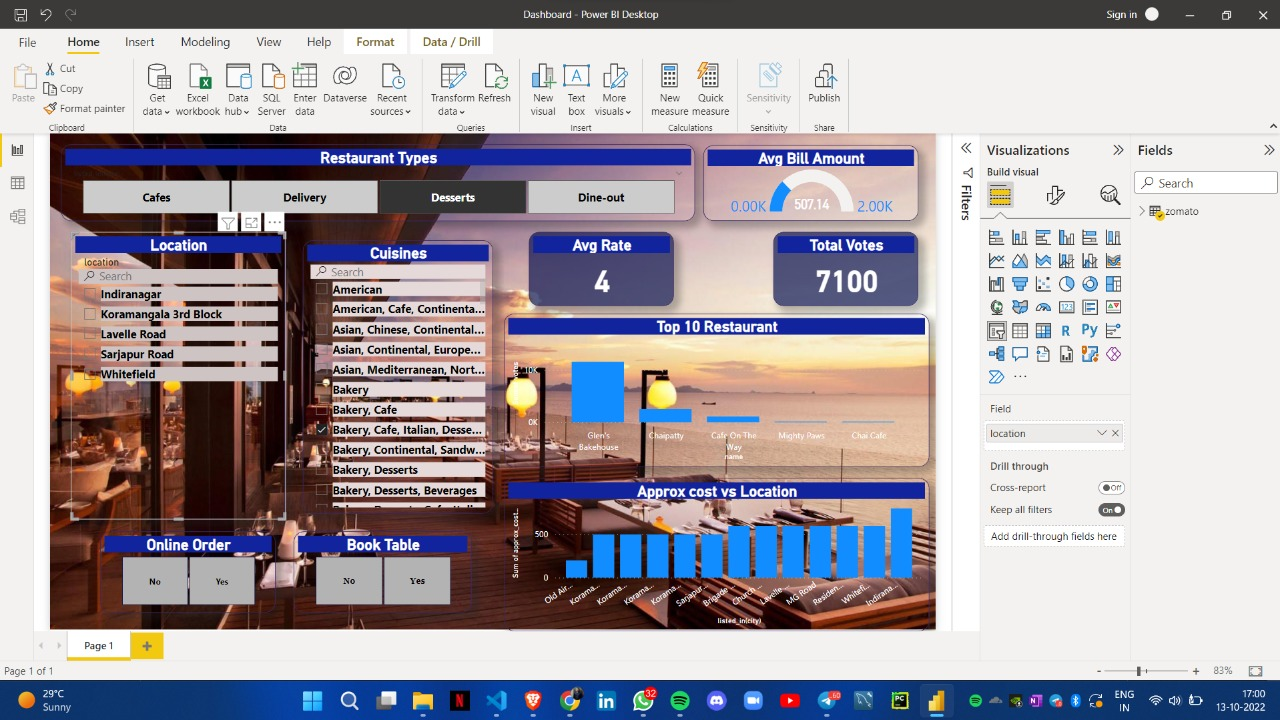

The page's visual inventory and layout, read from the dashboard file:
{"tool":"powerbi","page":{"name":"Page 1","canvas":[1280,720],"ordinal":0},"visuals":[{"type":"gauge","title":"Avg Bill Amount","fields":{"Y":["Avg(zomato.approx_cost(for two people))"]},"box":[944.3,16.9,311.2,109.7],"z":0},{"type":"slicer","title":"Restaurant Types","fields":{"Values":["zomato.listed_in(type)"]},"box":[15.9,15.9,917.1,111.3],"z":1000},{"type":"card","title":"Total Votes","fields":{"Values":["Sum(zomato.approx_cost(for two people))"]},"box":[1045.6,142.3,209.8,107.3],"z":2000},{"type":"card","title":"Avg Rate","fields":{"Values":["Avg(zomato.rate)"]},"box":[692.3,142.3,209.8,107.3],"z":3000},{"type":"columnChart","title":"Top 10 Restaurant","fields":{"Category":["zomato.name"],"Y":["Sum(zomato.votes)"]},"box":[656.1,260.5,615.1,221.9],"z":4000},{"type":"slicer","title":"Online Order","fields":{"Values":["zomato.online_order"]},"box":[72,575.6,253.7,117.4],"z":5000},{"type":"slicer","title":"Book Table","fields":{"Values":["zomato.book_table"]},"box":[352.2,575.6,257.5,117.4],"z":6000},{"type":"slicer","title":"Location","fields":{"Values":["zomato.location"]},"box":[30.2,142.3,309.9,416.1],"z":7000},{"type":"slicer","title":"Cuisines","fields":{"Values":["zomato.cuisines"]},"box":[365.4,154.4,275,395.6],"z":8000},{"type":"columnChart","title":"Approx cost vs Location","fields":{"Category":["zomato.listed_in(city)"],"Y":["Sum(zomato.approx_cost(for two people))"]},"box":[656.1,498.1,615.1,221.9],"z":8001}]}

Visuals, with their boxes on the page's 1280x720 design canvas (x1, y1, x2, y2). These are canvas units, not pixel positions in the 1280x720 screenshot, which may show the page scaled, cropped or inside an application window:
"Avg Bill Amount" gauge: {"x1": 944, "y1": 17, "x2": 1256, "y2": 127}
"Restaurant Types" slicer: {"x1": 16, "y1": 16, "x2": 933, "y2": 127}
"Total Votes" card: {"x1": 1046, "y1": 142, "x2": 1255, "y2": 250}
"Avg Rate" card: {"x1": 692, "y1": 142, "x2": 902, "y2": 250}
"Top 10 Restaurant" columnChart: {"x1": 656, "y1": 260, "x2": 1271, "y2": 482}
"Online Order" slicer: {"x1": 72, "y1": 576, "x2": 326, "y2": 693}
"Book Table" slicer: {"x1": 352, "y1": 576, "x2": 610, "y2": 693}
"Location" slicer: {"x1": 30, "y1": 142, "x2": 340, "y2": 558}
"Cuisines" slicer: {"x1": 365, "y1": 154, "x2": 640, "y2": 550}
"Approx cost vs Location" columnChart: {"x1": 656, "y1": 498, "x2": 1271, "y2": 720}
